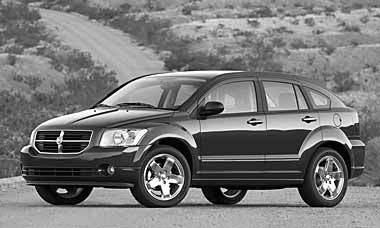car: (21, 70, 366, 208)
